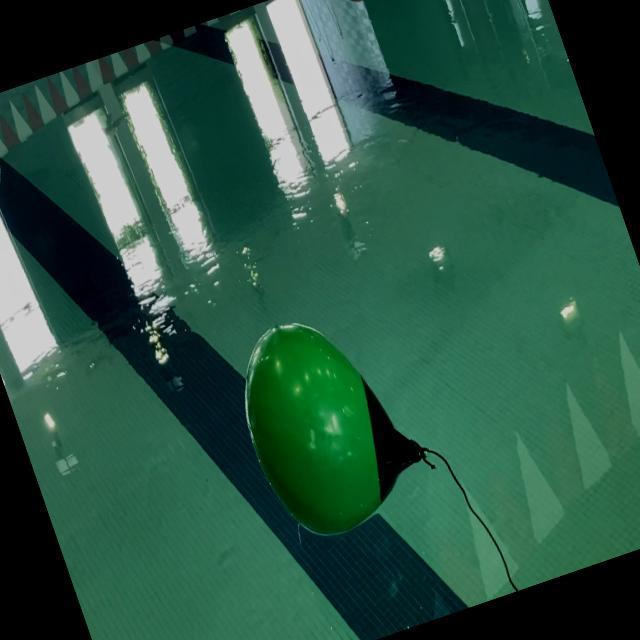buoy: (217, 290, 442, 552)
